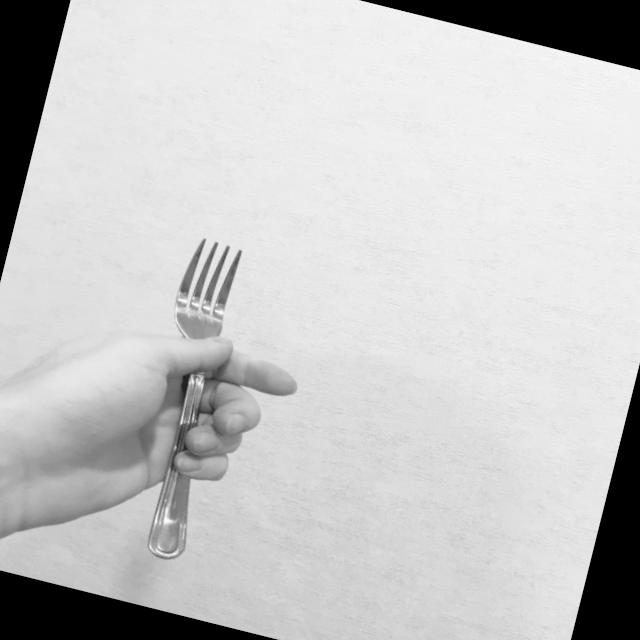fork: (110, 231, 260, 564)
